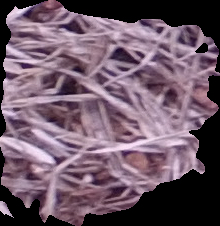soil: (3, 2, 217, 222)
